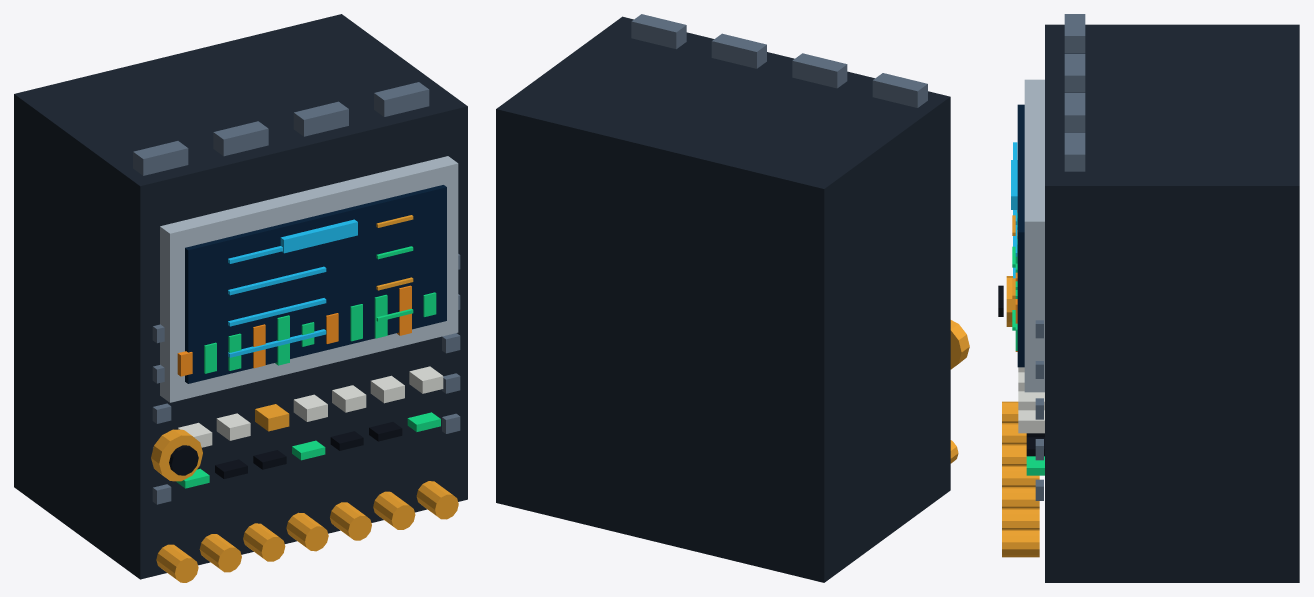
The model's file is 55_L87_PrecisionGapAndVibrationSCADA.fbx.
3 renders of one model, left to right at view 1: azimuth 30°, elevation 25°; view 2: azimuth 150°, elevation 25°; view 3: azimuth 270°, elevation 25°, orthographic.
Visible parts, largest first — view 1: L87_PrecisionGapAndVibrationSCADA, L87_PrecisionGapAndVibrationSCADA_Part_0009, L87_PrecisionGapAndVibrationSCADA_Part_0012, L87_PrecisionGapAndVibrationSCADA_Part_0011, L87_PrecisionGapAndVibrationSCADA_Part_0013, L87_PrecisionGapAndVibrationSCADA_Part_0010, L87_PrecisionGapAndVibrationSCADA_Part_0014; view 2: L87_PrecisionGapAndVibrationSCADA, L87_PrecisionGapAndVibrationSCADA_Part_0009, L87_PrecisionGapAndVibrationSCADA_Part_0013; view 3: L87_PrecisionGapAndVibrationSCADA, L87_PrecisionGapAndVibrationSCADA_Part_0009.
Part boxes in pixels (x1,y1,x2,y2): L87_PrecisionGapAndVibrationSCADA: (14, 14, 467, 582); L87_PrecisionGapAndVibrationSCADA_Part_0009: (133, 82, 429, 175); L87_PrecisionGapAndVibrationSCADA_Part_0012: (204, 292, 436, 373); L87_PrecisionGapAndVibrationSCADA_Part_0011: (177, 285, 411, 376); L87_PrecisionGapAndVibrationSCADA_Part_0013: (151, 429, 202, 481); L87_PrecisionGapAndVibrationSCADA_Part_0010: (280, 219, 357, 253); L87_PrecisionGapAndVibrationSCADA_Part_0014: (169, 445, 198, 475); L87_PrecisionGapAndVibrationSCADA: (496, 16, 958, 582); L87_PrecisionGapAndVibrationSCADA_Part_0009: (631, 14, 927, 107); L87_PrecisionGapAndVibrationSCADA_Part_0013: (950, 320, 969, 369); L87_PrecisionGapAndVibrationSCADA: (1002, 24, 1299, 582); L87_PrecisionGapAndVibrationSCADA_Part_0009: (1064, 14, 1085, 171).
Size of the model in its own units: 96.95 by 116 by 76.5.
